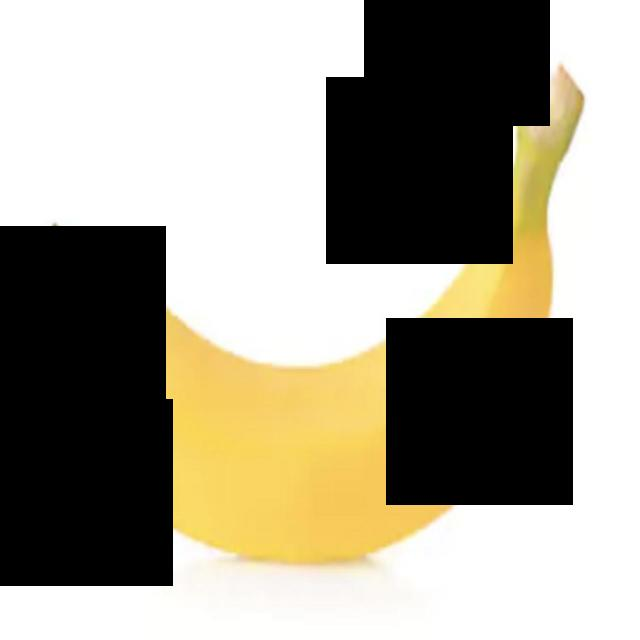banana: (0, 3, 638, 637)
